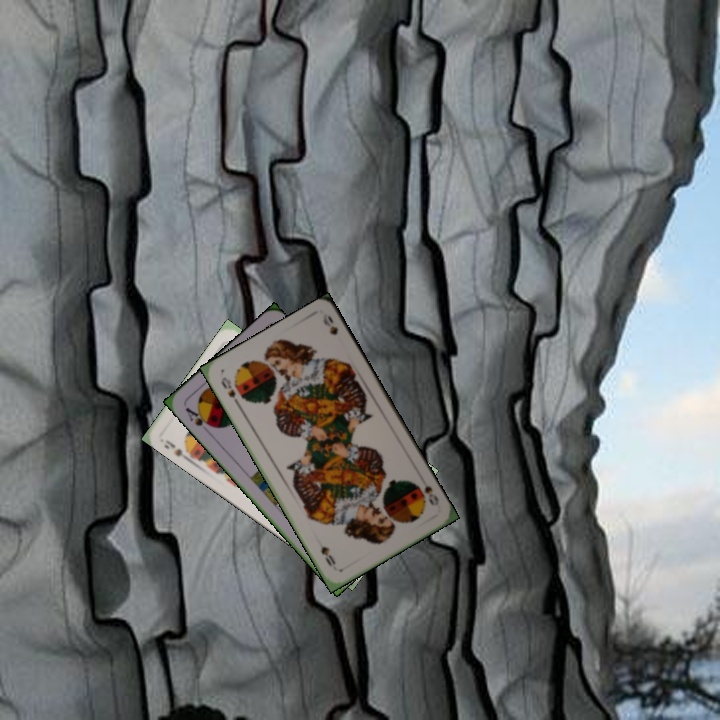S9: (160, 436, 195, 465)
SA: (181, 403, 216, 430)
SO: (411, 474, 441, 509), (217, 373, 243, 409)
